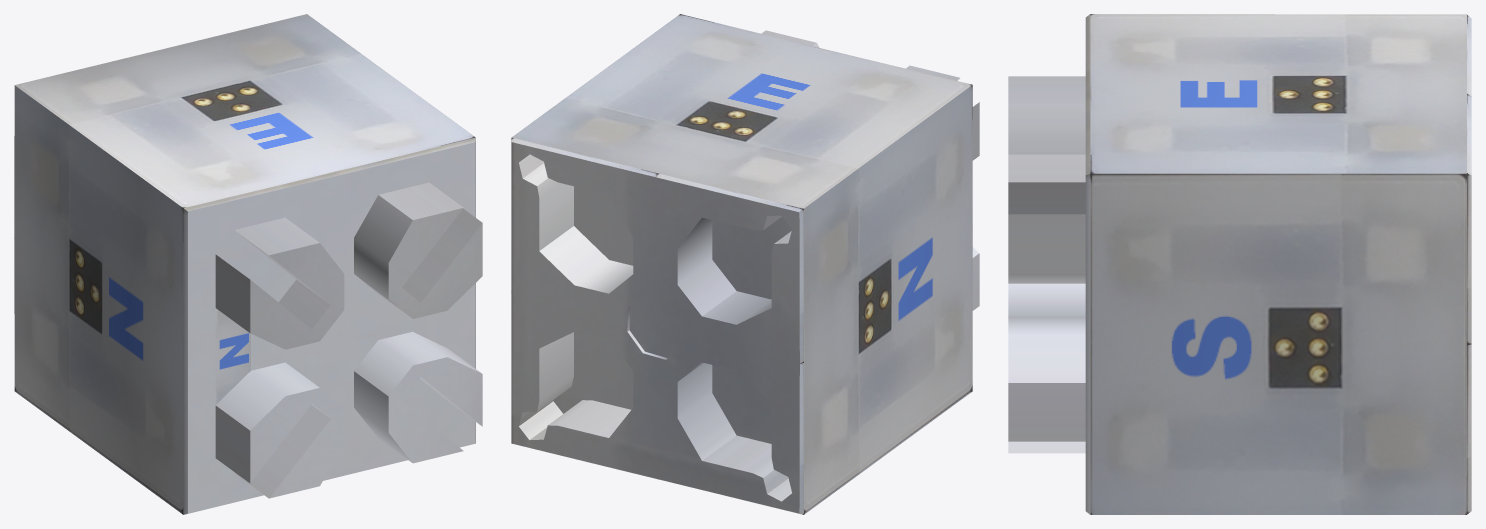
Rendered from blinkyblock_texture.obj.
3 views of the same model, side by side, from view 1: azimuth 30°, elevation 25°; view 2: azimuth 150°, elevation 25°; view 3: azimuth 270°, elevation 25° (orthographic). The views are drawn at different scales.
Visible parts, largest first — view 1: bb; view 2: bb; view 3: bb.
Boxes of the visible parts, box(x1,y1,x2,y2) form: bb: box(14, 14, 482, 514); bb: box(511, 14, 979, 514); bb: box(1008, 14, 1471, 514).
Bounding box in the file's own units: 39 × 39.08 × 48.
Materials: 1 (1 with a texture image).
